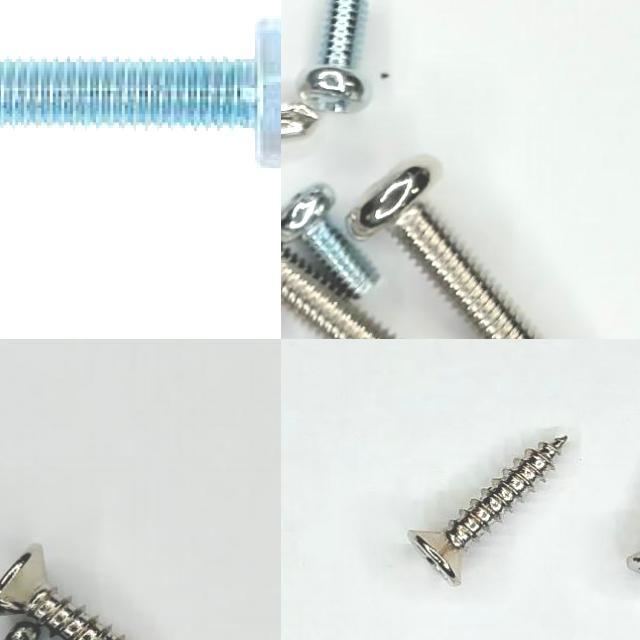Screw: (0, 18, 281, 171), (347, 166, 534, 339), (407, 436, 566, 585), (0, 545, 125, 640), (281, 183, 378, 296), (281, 244, 395, 339), (299, 0, 366, 111)
